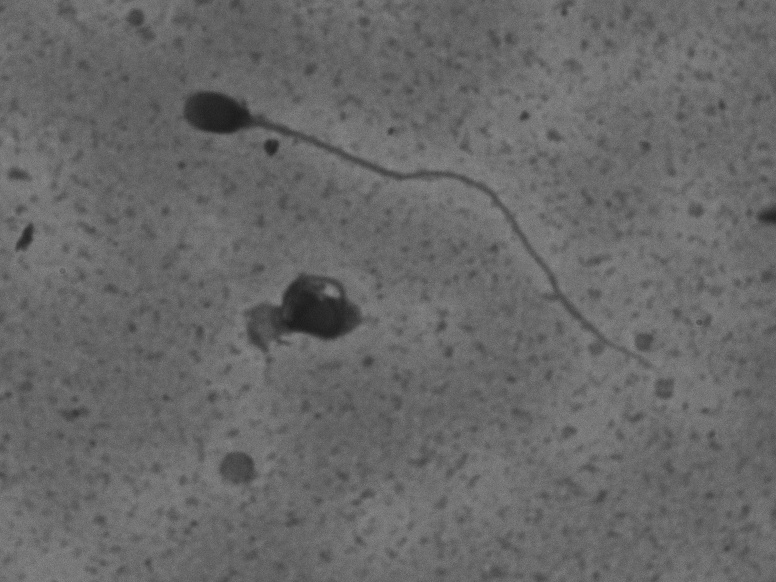Abnormal: (198, 241, 409, 387)
Normal: (173, 81, 683, 384)
